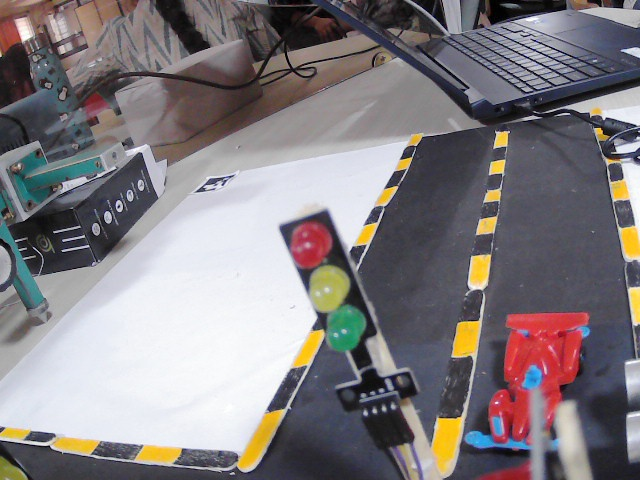aruco_marker: (197, 171, 235, 194)
black_strip: (439, 356, 473, 415), (266, 366, 303, 405), (179, 448, 231, 468), (92, 442, 139, 461), (459, 291, 483, 320), (613, 198, 632, 224), (472, 231, 492, 252), (27, 427, 55, 442), (626, 259, 640, 283), (607, 160, 625, 177), (487, 173, 504, 190), (367, 204, 384, 221), (478, 202, 497, 217), (489, 146, 507, 161), (386, 171, 405, 185), (594, 144, 615, 156), (352, 245, 366, 261), (632, 319, 638, 349), (402, 148, 416, 159), (309, 317, 320, 330), (591, 110, 602, 122)
car: (470, 304, 588, 462)
mixed_lane: (430, 122, 506, 469), (236, 318, 324, 467), (589, 109, 640, 347), (2, 426, 237, 473), (351, 129, 426, 264)
traffic_light: (281, 200, 415, 434)
uno_breadboard: (621, 355, 640, 458)
yellow_strip: (242, 409, 281, 461), (434, 414, 460, 466), (135, 446, 181, 465), (451, 323, 480, 353), (295, 332, 321, 364), (619, 218, 638, 256), (53, 437, 98, 453), (468, 256, 487, 286), (590, 120, 614, 142), (625, 285, 638, 320), (491, 122, 508, 147), (358, 221, 376, 242), (1, 427, 28, 439), (610, 182, 627, 200), (404, 130, 423, 146), (487, 157, 503, 175), (485, 186, 501, 202), (477, 219, 495, 233), (378, 189, 394, 204), (396, 156, 408, 171), (606, 154, 619, 163)
